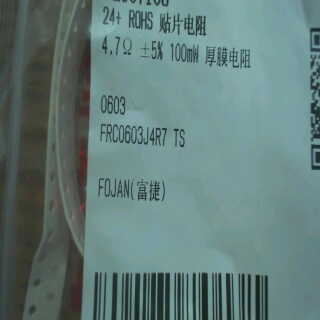4.7R: (101, 30, 133, 62)
